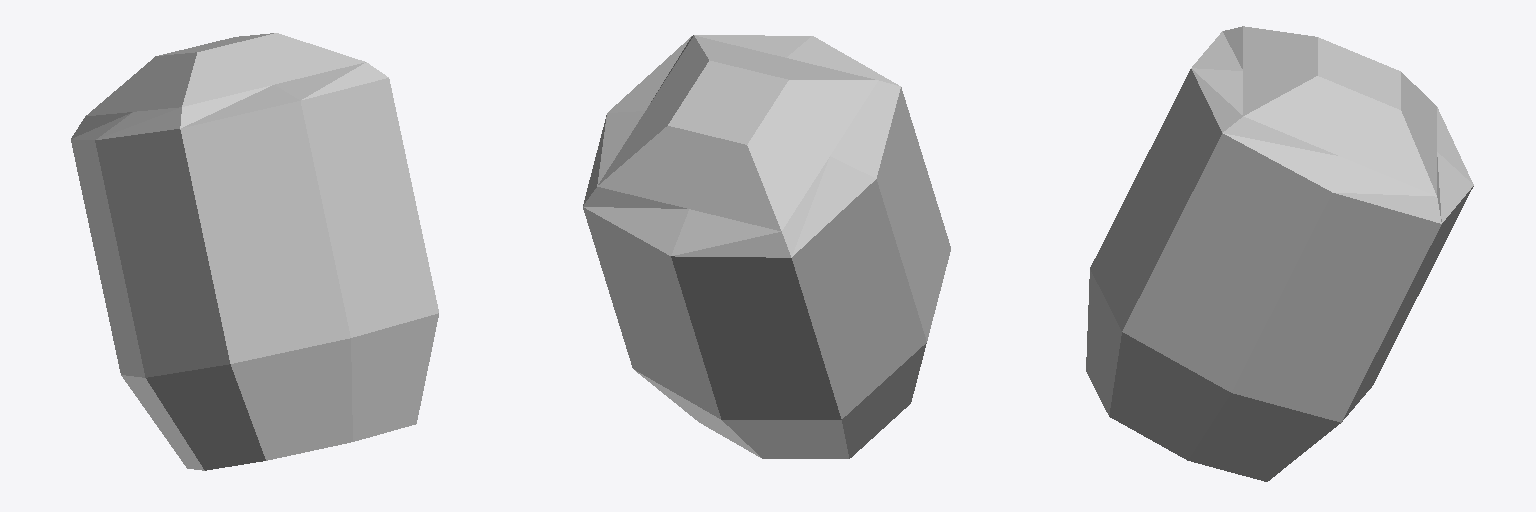
The model's file is UpperLeg.obj.
3 views of the same model, side by side, from view 1: azimuth 30°, elevation 25°; view 2: azimuth 150°, elevation 25°; view 3: azimuth 270°, elevation 25° (orthographic).
Parts seen in each view (by area): view 1: Cube.001_Cube.002; view 2: Cube.001_Cube.002; view 3: Cube.001_Cube.002.
Part boxes in pixels (x1,y1,x2,y2): Cube.001_Cube.002: (71, 33, 438, 470); Cube.001_Cube.002: (583, 35, 950, 458); Cube.001_Cube.002: (1086, 26, 1473, 481).
Size of the model in its own units: 0.959 by 1.36 by 1.2.